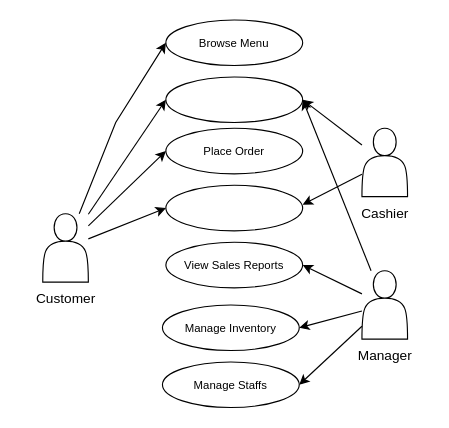
This 449x428 diagram has some shape labels left out. Each missing label, with the centre of its shape:
"Track Order Status" belongs at [234,207].
"User Authentication" belongs at [234,99].
